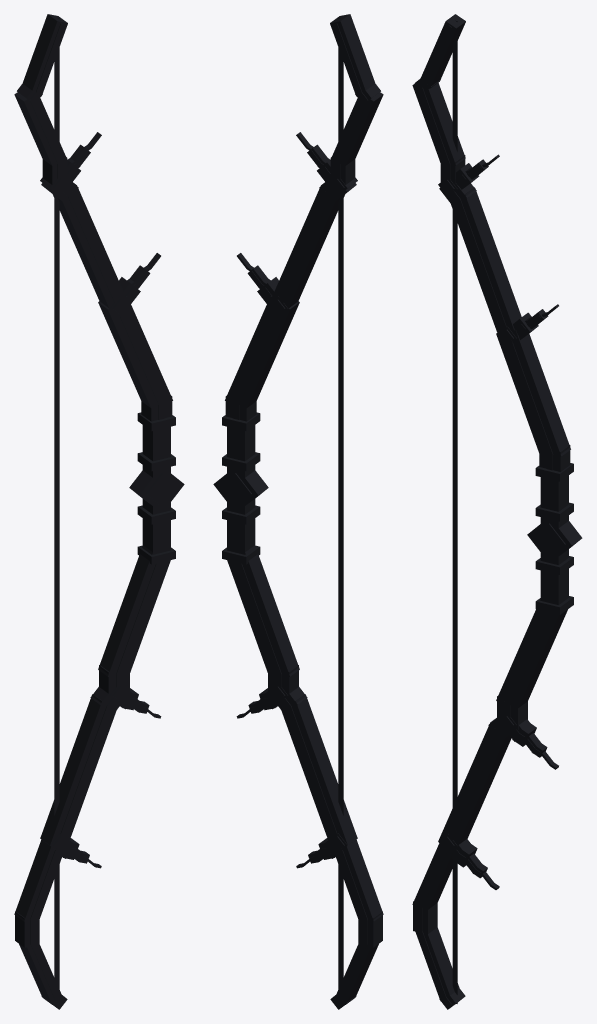
Rendered from requiem_recurve_smooth.obj.
3 renders of one model, left to right at view 1: azimuth 30°, elevation 25°; view 2: azimuth 150°, elevation 25°; view 3: azimuth 330°, elevation 25°, orthographic.
Visible parts, largest first — view 1: requiem_recurve; view 2: requiem_recurve; view 3: requiem_recurve.
Boxes of the visible parts, x1,y1,x2,y2 form: requiem_recurve: (14, 14, 184, 1009); requiem_recurve: (213, 14, 383, 1009); requiem_recurve: (412, 14, 582, 1009).
Bounding box in the file's own units: 0.4711 × 2.78 × 0.0717.
